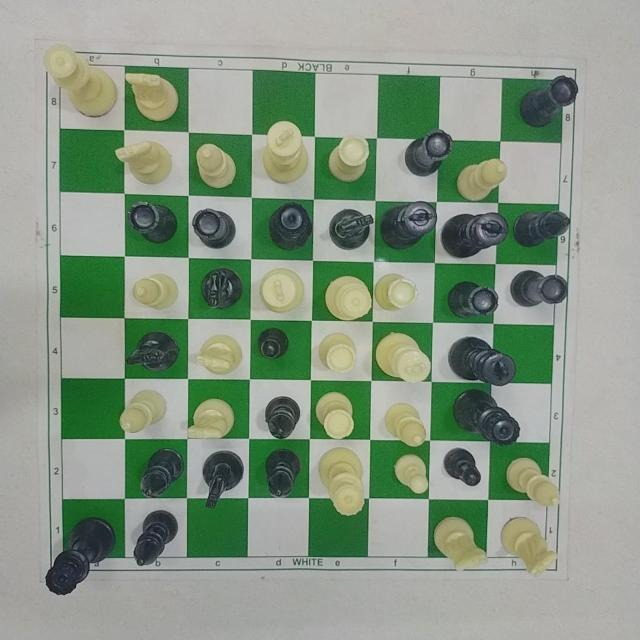black-bishop: (132, 507, 180, 567), (138, 446, 186, 500), (512, 208, 573, 249), (263, 446, 303, 499), (262, 394, 301, 440)
black-king: (446, 333, 518, 386), (439, 209, 511, 261), (378, 200, 439, 252)
black-knight: (199, 448, 246, 511), (123, 328, 181, 373), (326, 207, 375, 253), (199, 266, 245, 310)
black-pawn: (441, 446, 483, 488), (256, 326, 290, 362)
black-queen: (42, 515, 117, 597), (451, 386, 523, 448), (266, 200, 315, 252)
black-rook: (518, 72, 580, 129), (402, 126, 454, 178), (507, 267, 570, 309), (126, 198, 178, 245), (445, 279, 500, 320), (190, 206, 238, 251)
white-bishop: (503, 455, 562, 509), (455, 156, 509, 203), (117, 387, 169, 435), (381, 400, 428, 449), (193, 142, 238, 190), (130, 271, 180, 313)
white-king: (372, 329, 434, 386), (259, 118, 310, 187), (256, 265, 305, 315)
white-knight: (498, 514, 560, 579), (431, 515, 489, 573), (123, 70, 181, 123), (113, 139, 174, 187), (185, 396, 237, 442), (193, 331, 243, 376)
white-pawn: (391, 451, 431, 496)
white-queen: (40, 41, 120, 120), (316, 445, 366, 517), (322, 273, 374, 322)
white-rook: (326, 133, 372, 185), (313, 390, 357, 442), (372, 271, 419, 313), (316, 330, 358, 375)
